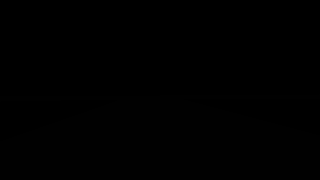turn_left: (178, 71, 186, 81)
